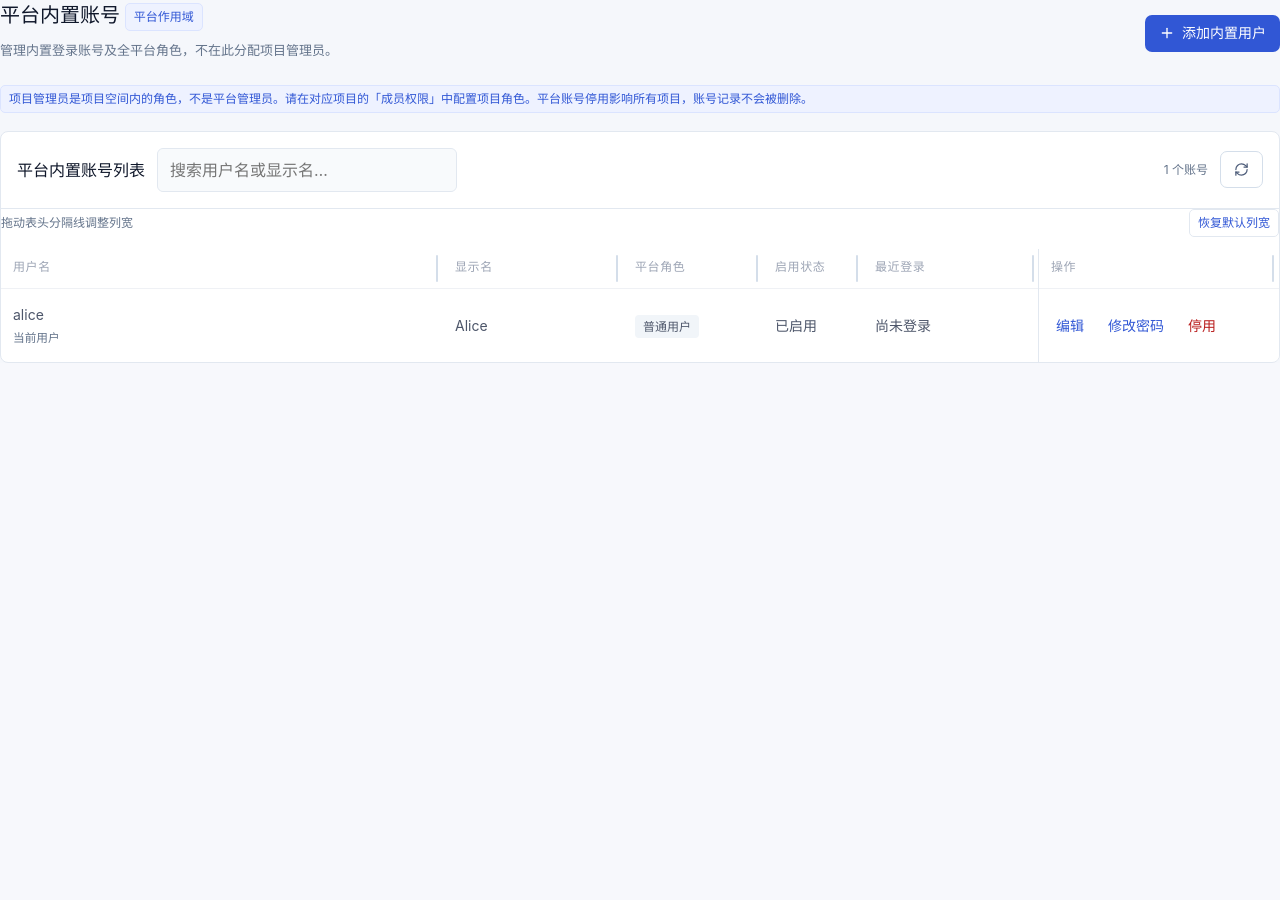
Test: keeps own password changes in account security and refreshes authority after self editing
The image size is (1280, 900).
Expected: the text "Alice" is shown, [443, 288, 623, 362]
Click the button with aria-label "编辑 alice" at (1070, 325), box [1051, 310, 1089, 341]
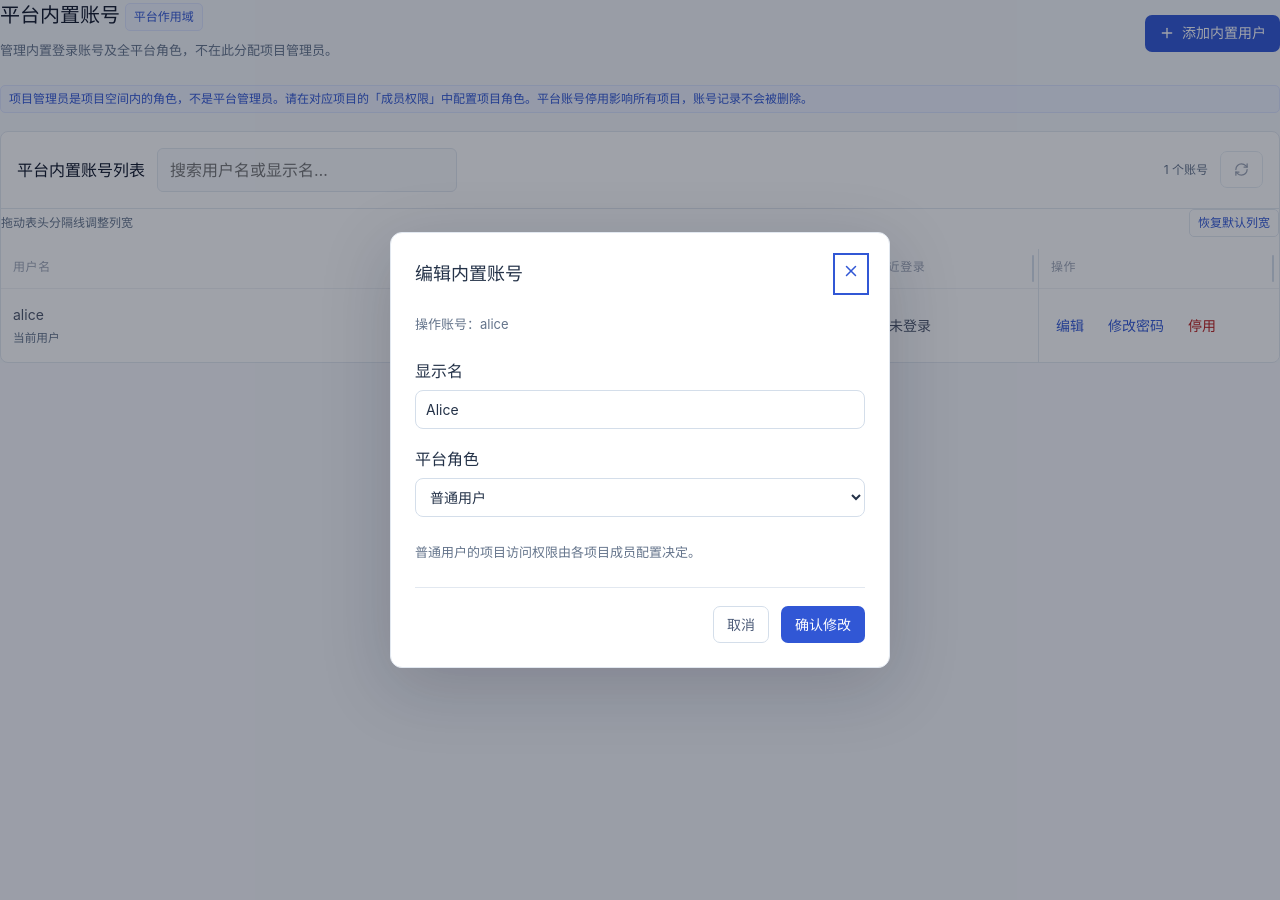
Replace the text in the field labelled "显示名" with "Updated" at (640, 410), box [415, 390, 865, 429]
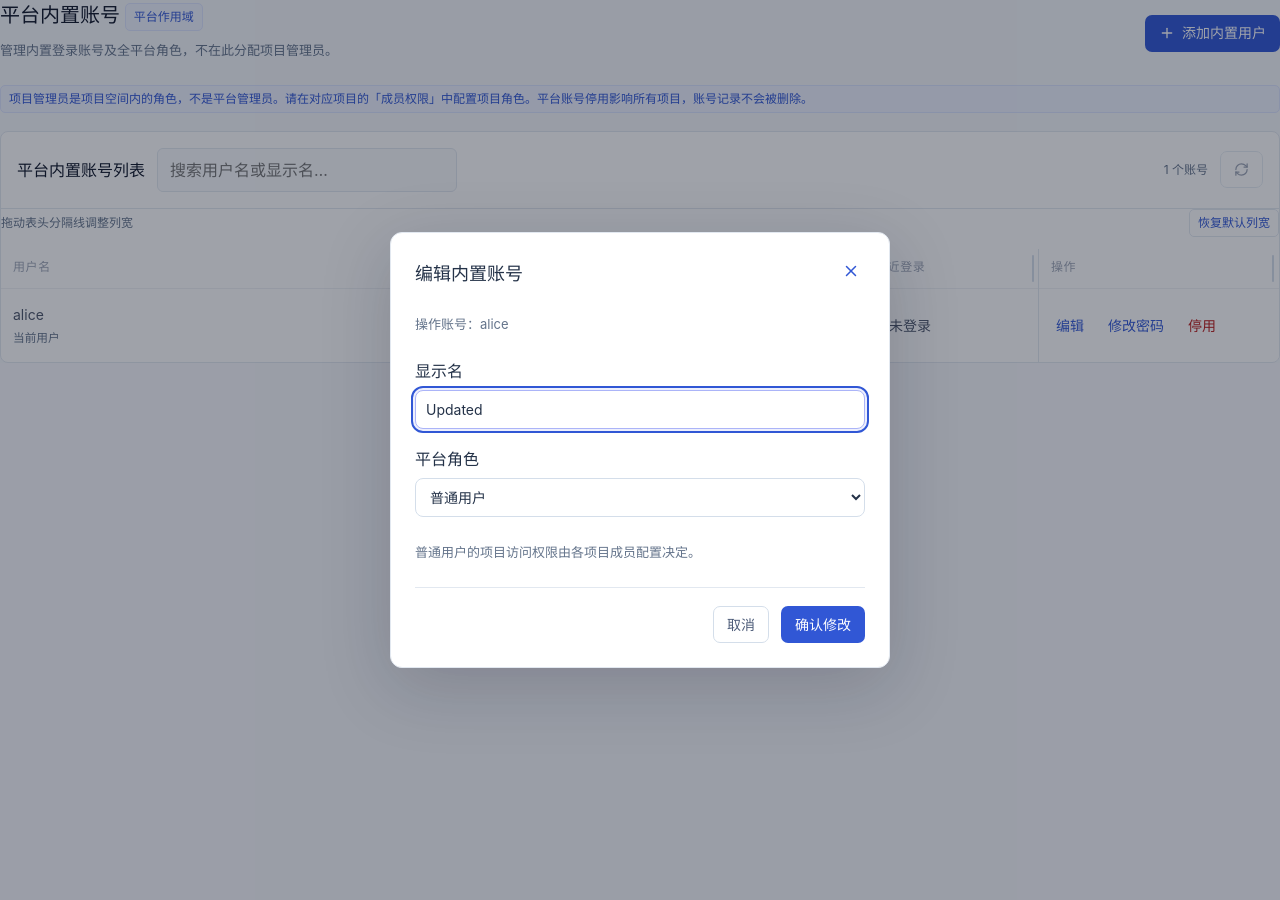
Click the button "确认修改" at (823, 625), box [781, 606, 865, 643]
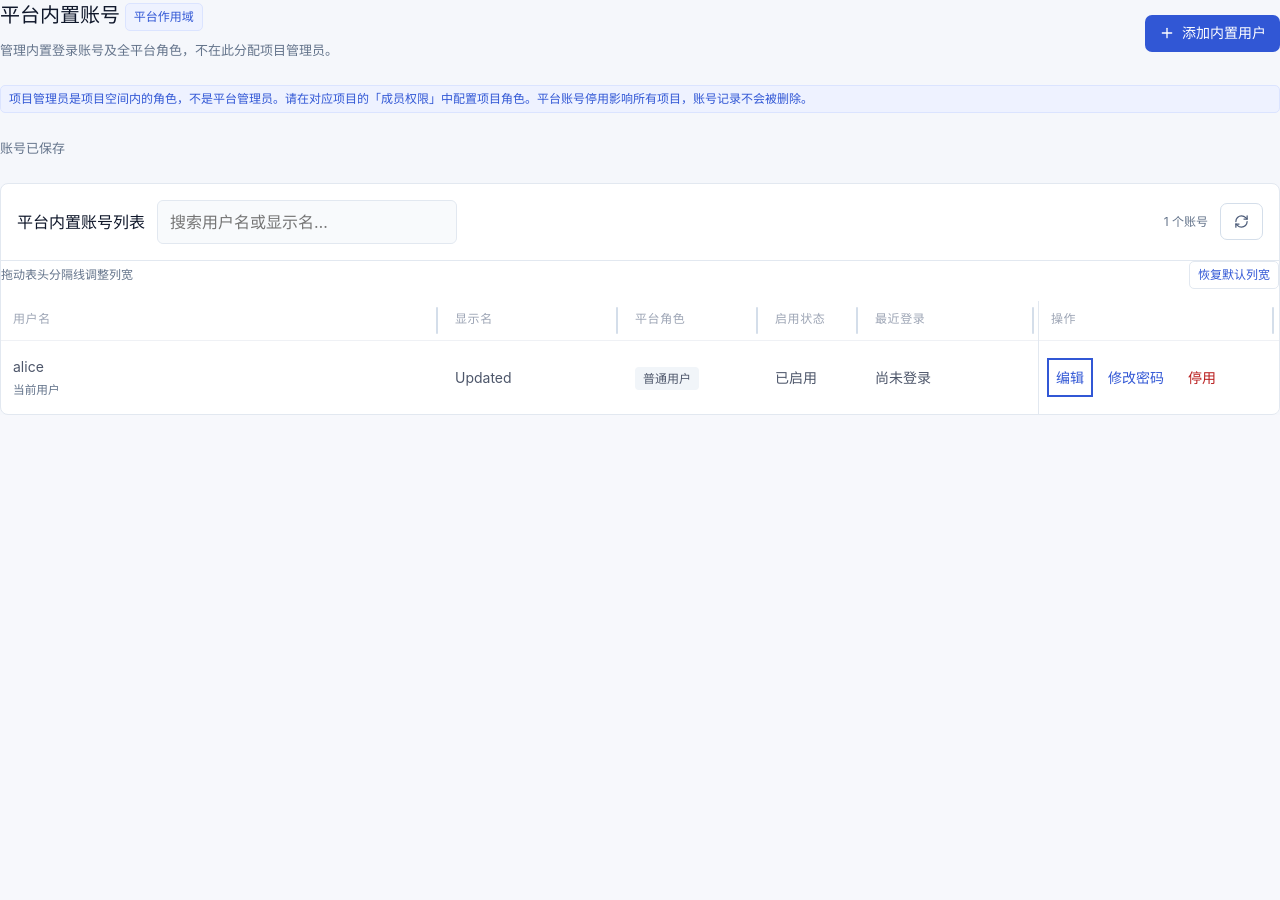
Now the text "Updated" is shown, box [443, 340, 623, 414]
